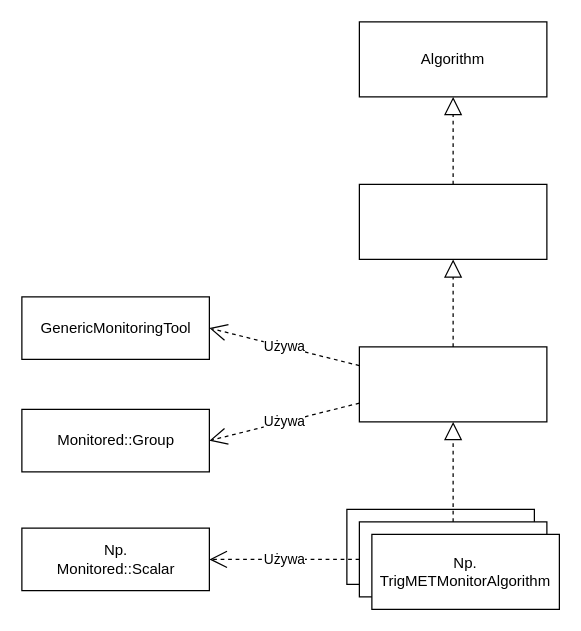
Some shapes in this 581 by 631 pixel diagram are drawn without their labels. Here are the shapes that lost their labels. From the top down, the centre of each, then its label:
(452,221): AthReentrantAlgorithm
(452,384): AthMonitorAlgorithm
